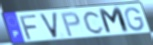C: (82, 10, 106, 35)
F: (19, 13, 39, 42)
G: (125, 7, 146, 33)
M: (97, 7, 132, 36)
P: (60, 11, 82, 38)
V: (38, 12, 59, 40)
